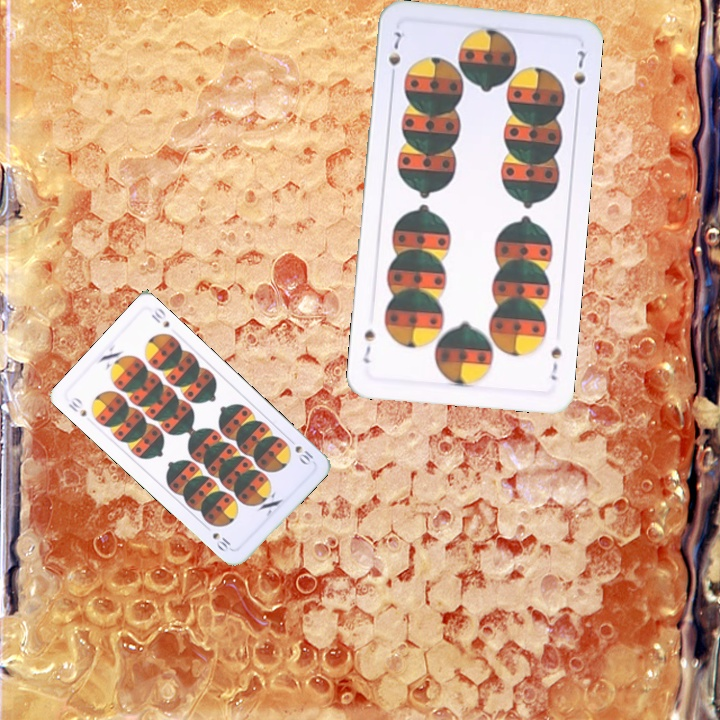S10: (284, 434, 316, 468), (64, 393, 89, 420)
S7: (384, 24, 405, 83), (547, 343, 564, 383)
